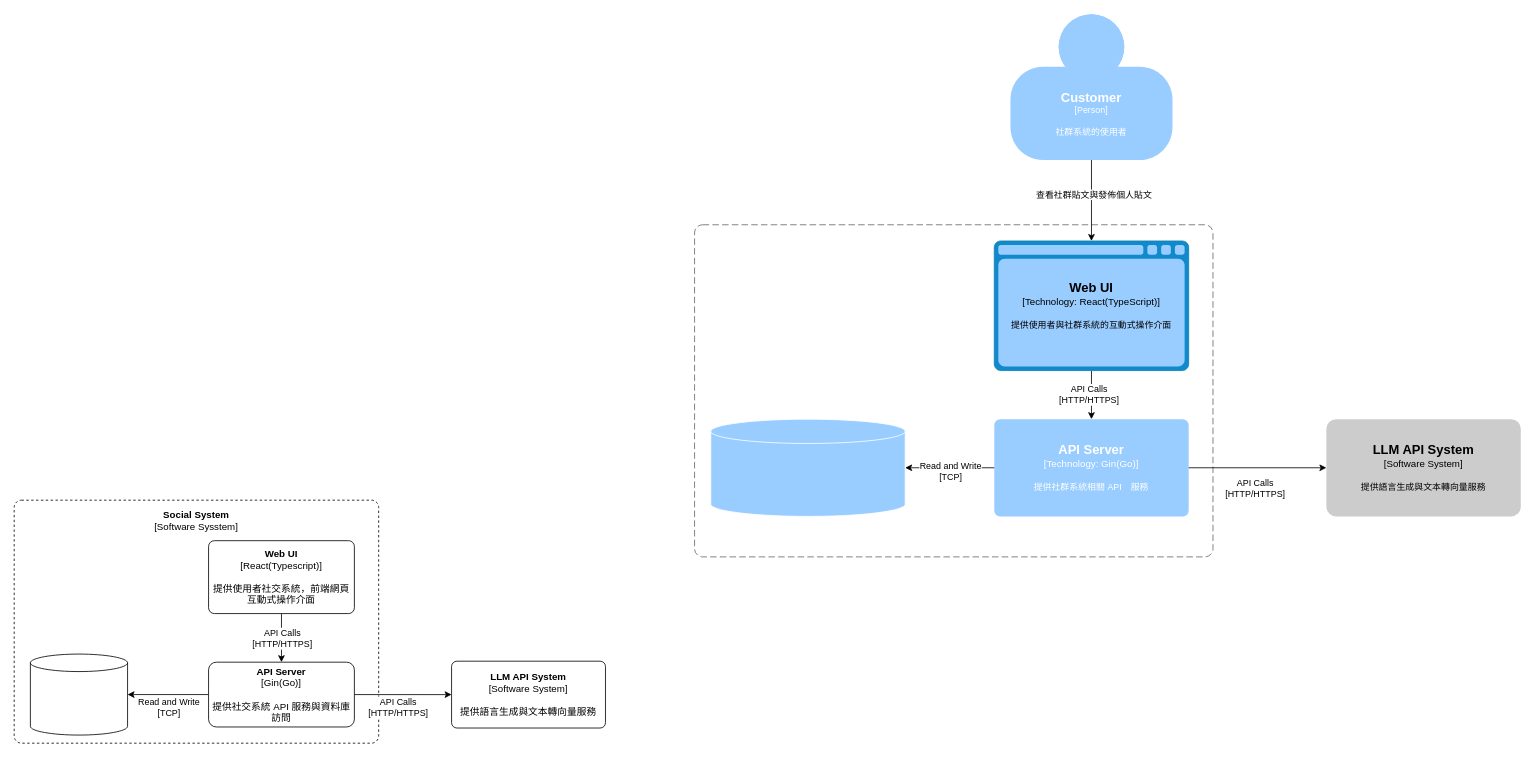
The diagram is 1535 pixels wide and 757 high, and some of its shapes have lost their labels. The shapes that lost their labels are listed below. From the top down, each one's box as (x1, y1, x2, y2) in pixels, then its label:
(694, 224, 1213, 557): Social System [Software System]
(710, 418, 905, 516): Relational DB [Technology: PostgreSQL] 持久化存儲系統服務數據
(30, 653, 128, 735): Related DB [PostgreSQL] 持久化存儲系統服務數據
